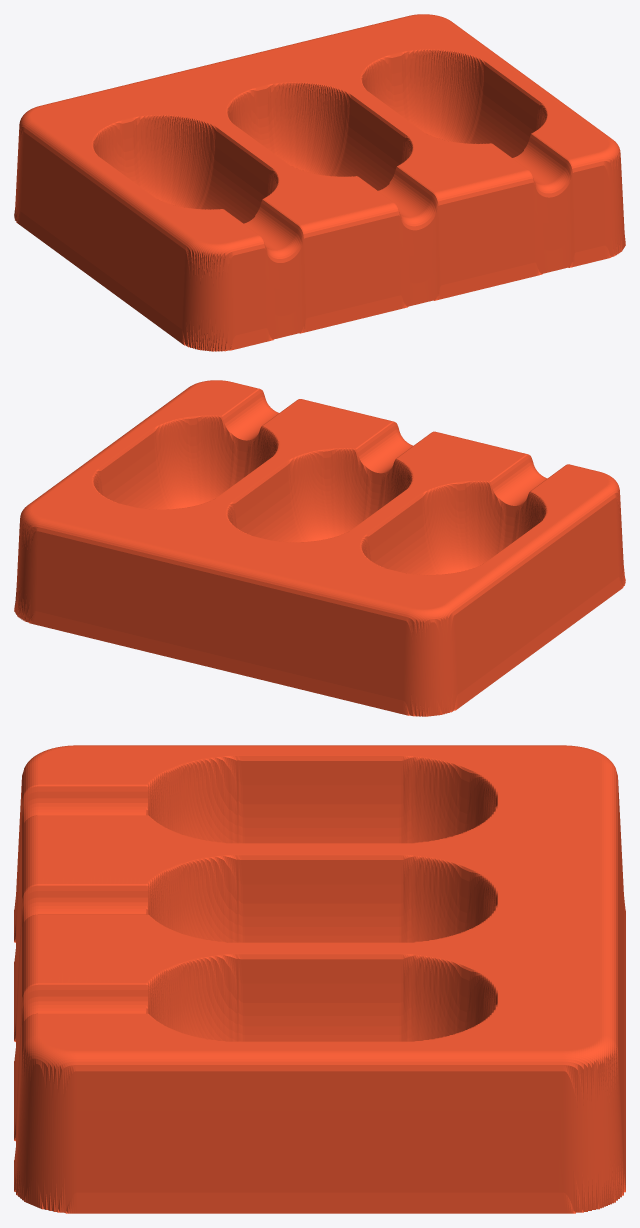
File: mold.glb
3 views of the same model, one above another, from view 1: azimuth 30°, elevation 25°; view 2: azimuth 150°, elevation 25°; view 3: azimuth 270°, elevation 25° (orthographic). The views are drawn at different scales.
Visible parts, largest first — view 1: geometry_0; view 2: geometry_0; view 3: geometry_0.
Boxes of the visible parts, x1,y1,x2,y2 form: geometry_0: [14, 14, 625, 351]; geometry_0: [14, 380, 625, 716]; geometry_0: [14, 745, 625, 1213].
Size of the model in its own units: 0.1121 by 0.0245 by 0.0892.
